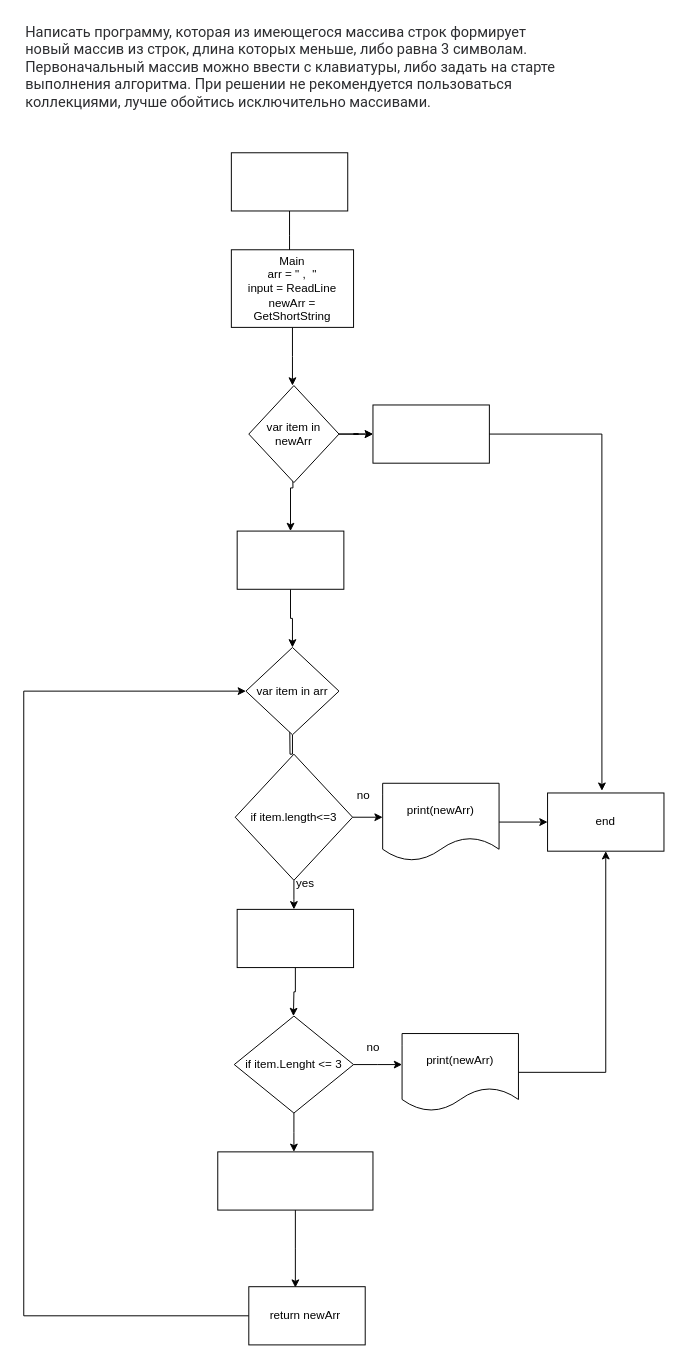
The diagram is 681 pixels wide and 1362 high, and some of its shapes have lost their labels. Here are the shapes that lost their labels. From the top down, the box of each, then its label:
(230, 152, 348, 211): start
(372, 404, 489, 463): print(item)
(236, 530, 344, 589): GetShortString count = 0; index = 0
(236, 908, 354, 968): count = count + 1
(217, 1151, 373, 1210): newArr[index] = item
